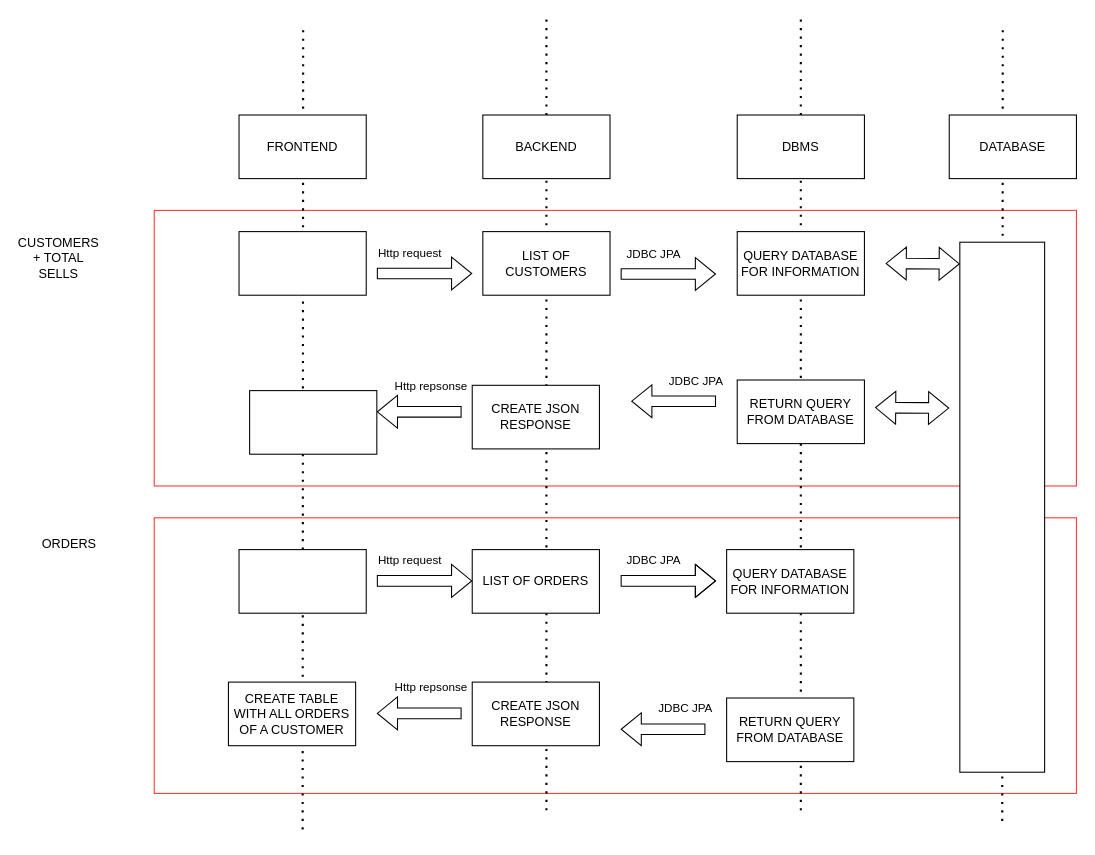
This 1095x855 diagram has some shape labels left out. The centre of each missing label's shape, as x and y in pixels:
CREATE TABLE WITH ALL CUSTOMERS: the point at 313,422
DB: the point at 1002,506
DETAIL ORDERS BY ORDERS+ $: the point at 302,581
LIST OF CUSTOMERS + Total $: the point at 302,263
